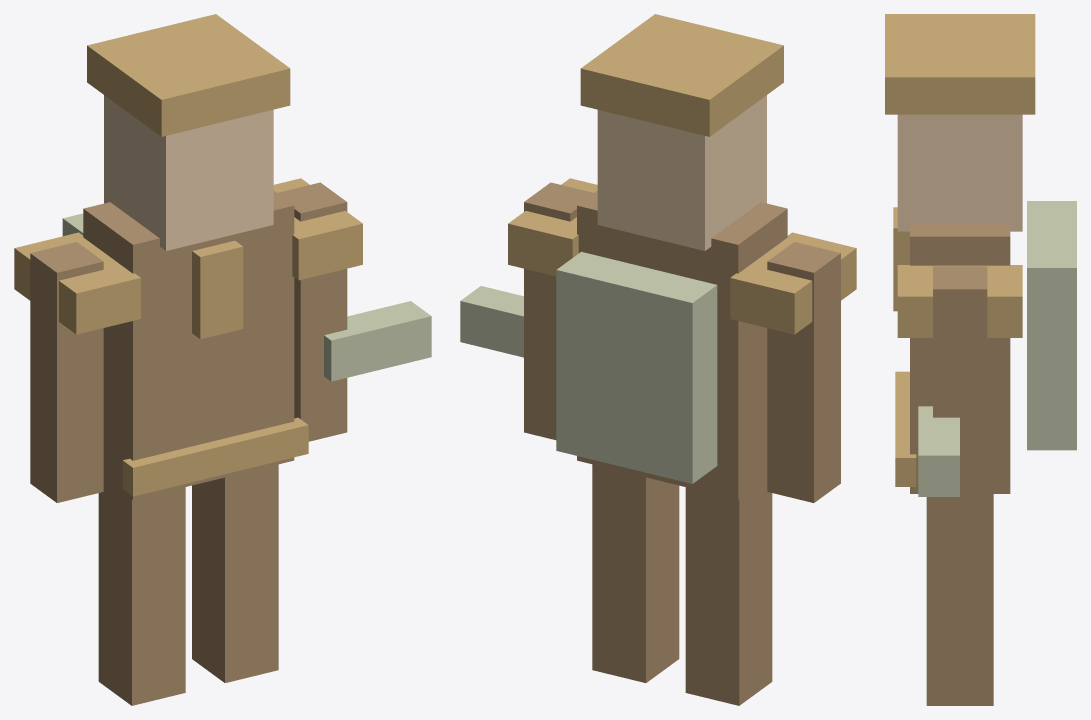
File: 18_dax_cragwarden_keeper_of_dry.glb
3 views of the same model, side by side, from view 1: azimuth 30°, elevation 25°; view 2: azimuth 150°, elevation 25°; view 3: azimuth 270°, elevation 25° (orthographic).
Parts seen in each view (by area): view 1: Dax Cragwarden, Keeper of Dry; view 2: Dax Cragwarden, Keeper of Dry; view 3: Dax Cragwarden, Keeper of Dry.
Boxes of the visible parts, x1=… form: Dax Cragwarden, Keeper of Dry: x1=14, y1=14, x2=431, y2=705; Dax Cragwarden, Keeper of Dry: x1=460, y1=14, x2=856, y2=705; Dax Cragwarden, Keeper of Dry: x1=885, y1=14, x2=1076, y2=705.
Size of the model in its own units: 0.943 by 1.52 by 0.4232.
